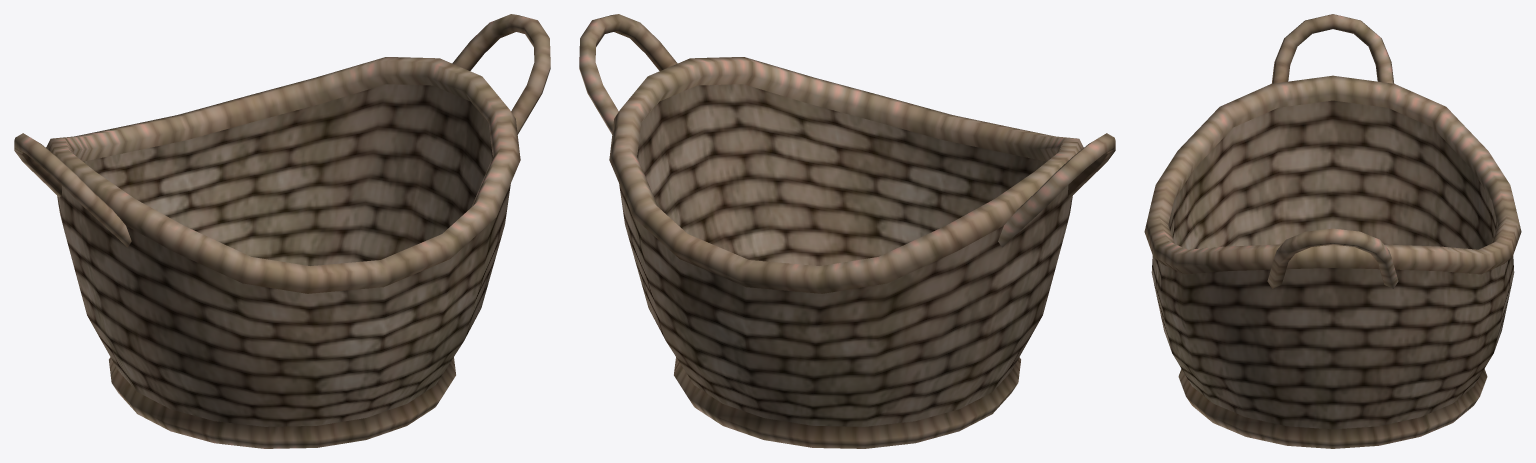
File: village_wicker_basket_07.fbx
3 renders of one model, left to right at view 1: azimuth 30°, elevation 25°; view 2: azimuth 150°, elevation 25°; view 3: azimuth 270°, elevation 25°, orthographic. The views are drawn at different scales.
Visible parts, largest first — view 1: village_wicker_basket_07; view 2: village_wicker_basket_07; view 3: village_wicker_basket_07.
Boxes of the visible parts, x1,y1,x2,y2 form: village_wicker_basket_07: (14,14,550,448); village_wicker_basket_07: (579,14,1115,448); village_wicker_basket_07: (1144,14,1521,448).
Bounding box in the file's own units: 62.35 × 34.71 × 44.8.
